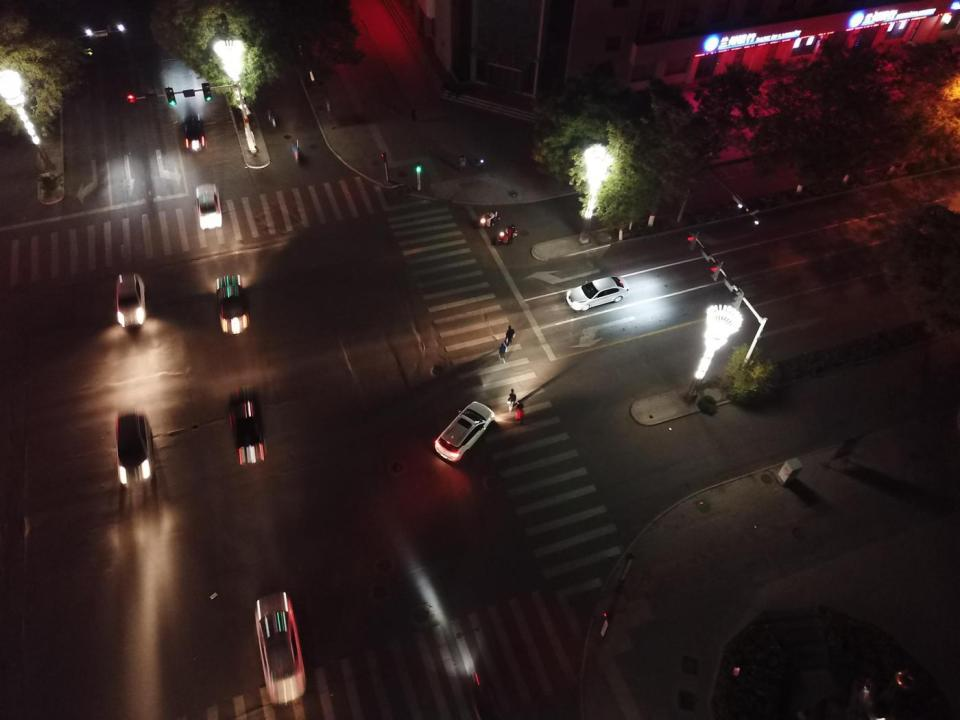car: (253, 591, 307, 704), (432, 400, 494, 463), (229, 386, 269, 464), (115, 413, 154, 488), (567, 276, 628, 311), (216, 275, 250, 335), (114, 274, 146, 328), (196, 184, 222, 229), (182, 112, 207, 152), (77, 44, 92, 57)
